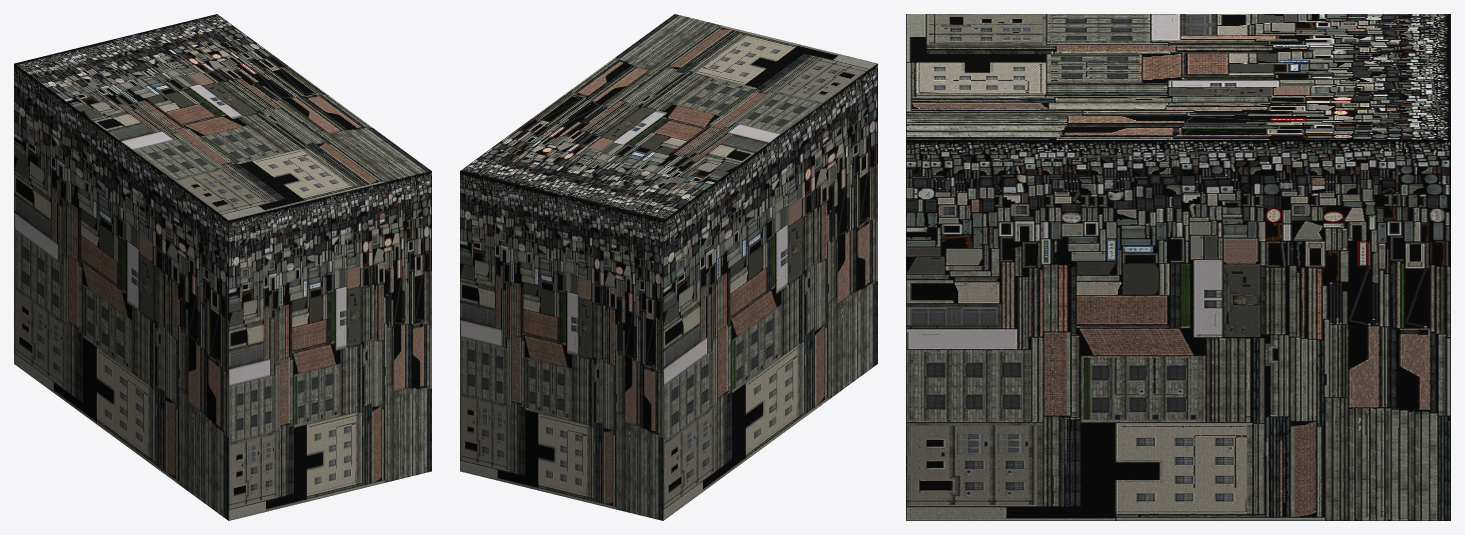
File: Interiors_009.DAE
3 views of the same model, side by side, from view 1: azimuth 30°, elevation 25°; view 2: azimuth 150°, elevation 25°; view 3: azimuth 270°, elevation 25° (orthographic). The views are drawn at different scales.
Visible parts, largest first — view 1: bounds; view 2: bounds; view 3: bounds.
Part boxes in pixels (box(x1,y1,x2,y2)): bounds: box(14, 14, 431, 520); bounds: box(460, 14, 877, 520); bounds: box(906, 14, 1450, 520).
Bounding box in the file's own units: 1274 × 2331 × 1799.
